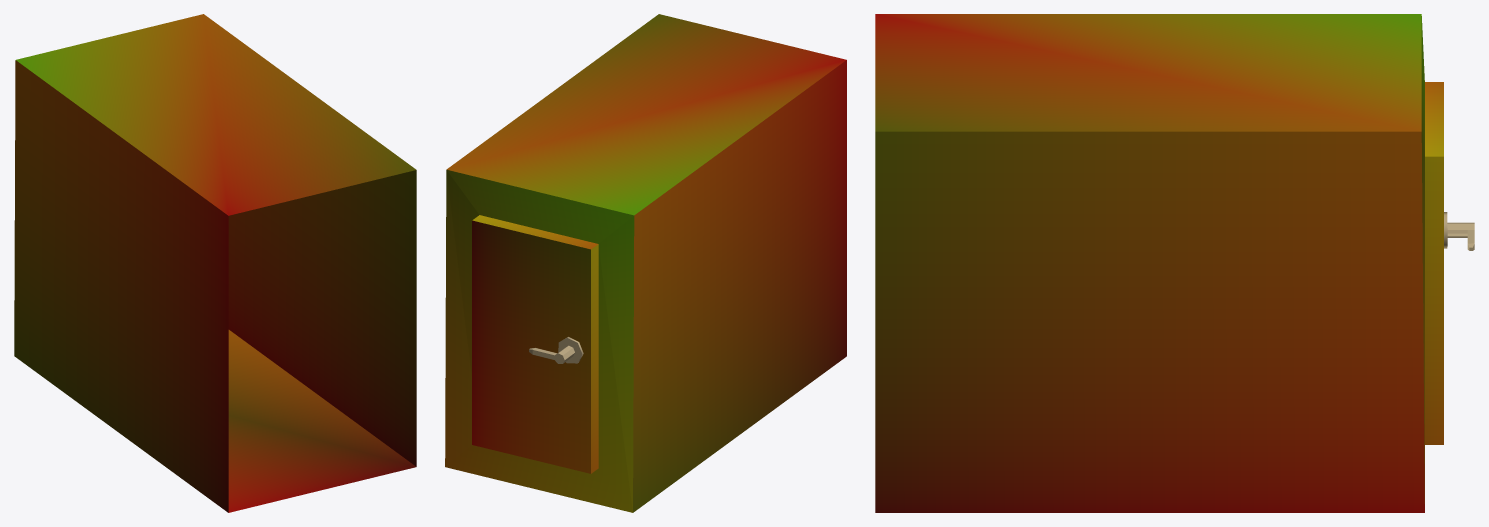
The model's file is armario frontal.fbx.
The picture shows the model from 3 angles, left to right: view 1: azimuth 30°, elevation 25°; view 2: azimuth 150°, elevation 25°; view 3: azimuth 270°, elevation 25°; orthographic projection. The views are drawn at different scales.
Visible parts, largest first — view 1: Box033; view 2: Box033; view 3: Box033.
Part boxes in pixels (left/top/right/bottom): Box033: left=14, top=14, right=416, bottom=512; Box033: left=445, top=14, right=846, bottom=512; Box033: left=875, top=14, right=1474, bottom=512.
Bounding box in the file's own units: 1968 × 2969 × 4232.
